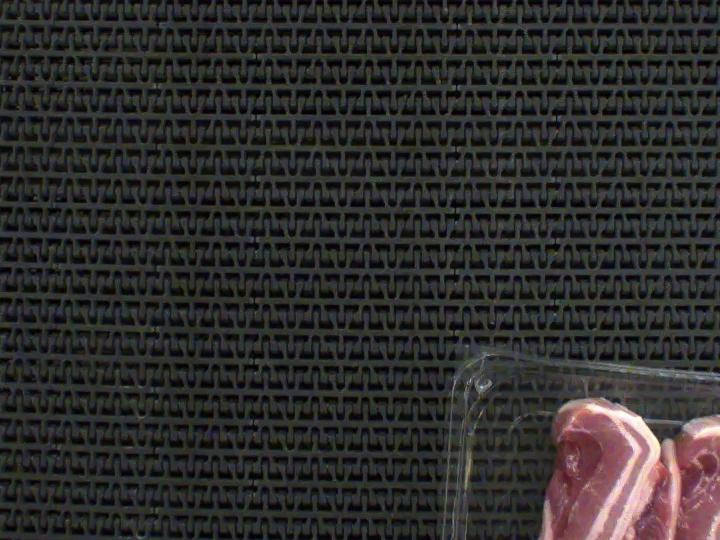packaging-error: (578, 361, 647, 418)
